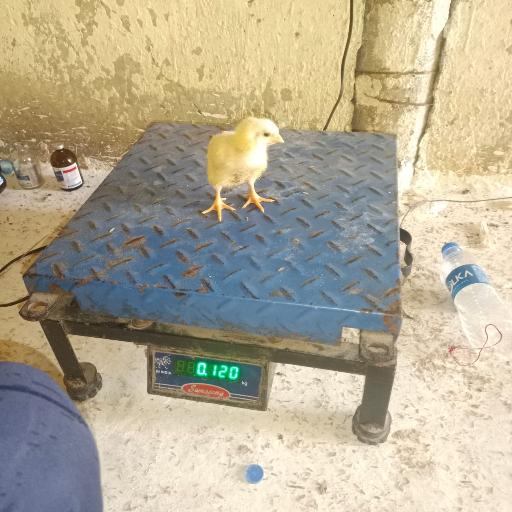chick: (204, 117, 284, 222)
